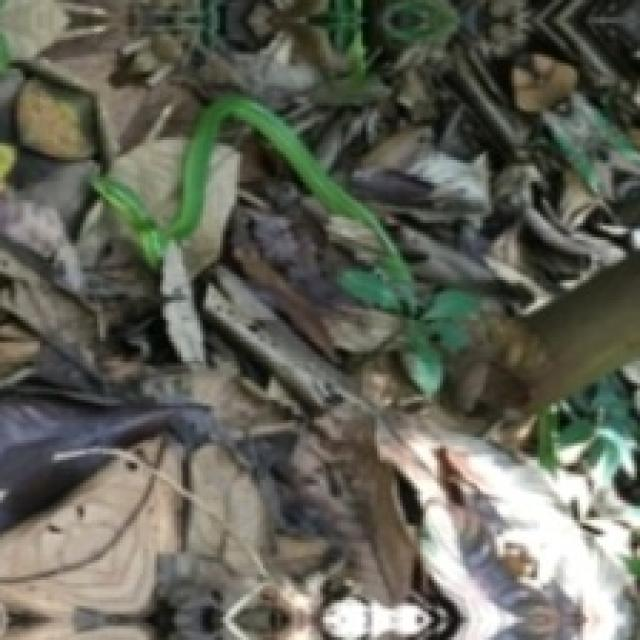red-tailed green ratsnake: (91, 97, 411, 286)
